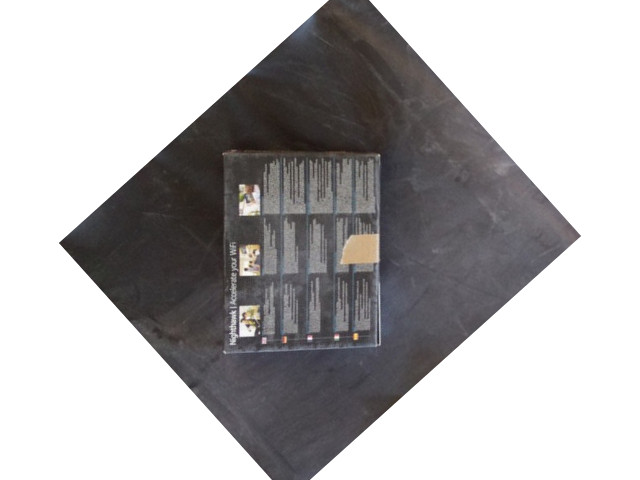cardboard: (221, 148, 378, 351)
